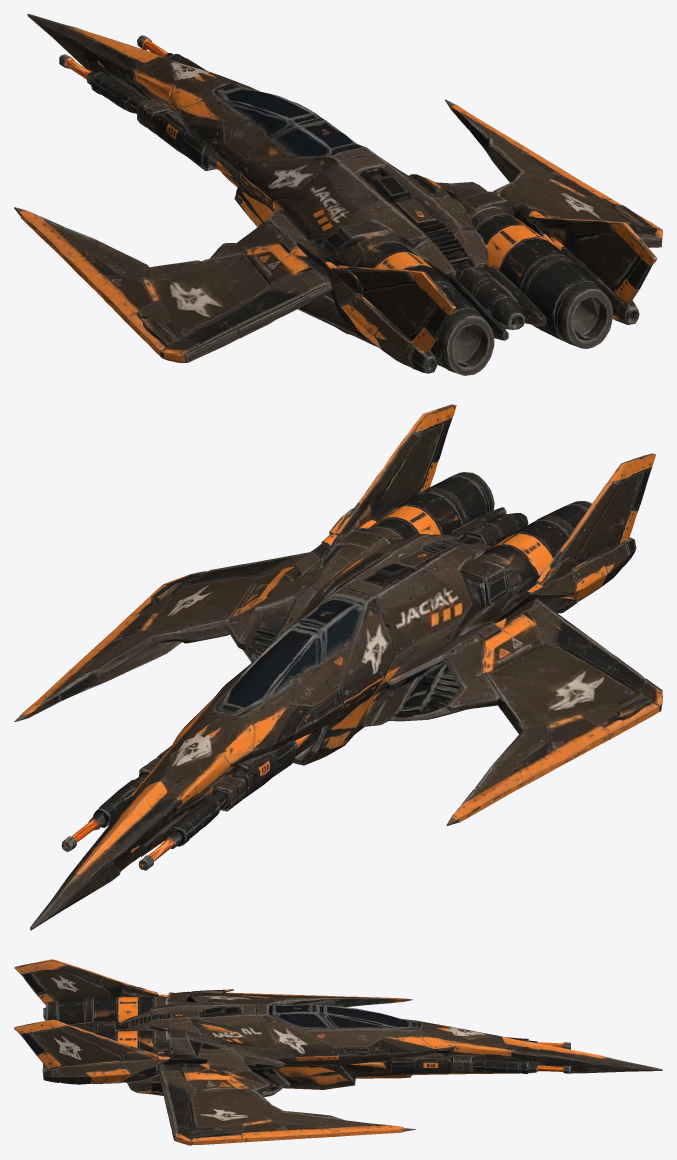
File: enemy-jackal.glb
The picture shows the model from 3 angles, top to bottom: view 1: azimuth 30°, elevation 25°; view 2: azimuth 150°, elevation 25°; view 3: azimuth 270°, elevation 25°; orthographic projection. The views are drawn at different scales.
Parts seen in each view (by area): view 1: enemy-jackal-rumpf; view 2: enemy-jackal-rumpf; view 3: enemy-jackal-rumpf.
Part boxes in pixels (x1,y1,x2,y2): enemy-jackal-rumpf: (14, 14, 662, 375); enemy-jackal-rumpf: (14, 404, 662, 930); enemy-jackal-rumpf: (14, 959, 662, 1145).
Bounding box in the file's own units: 1.1 × 0.3152 × 2.
Materials: 1 (1 with a texture image).
